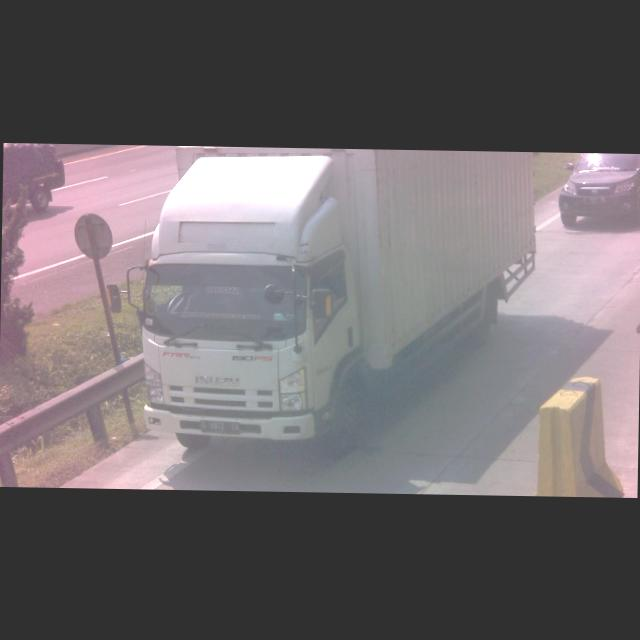plate: (198, 419, 240, 436)
